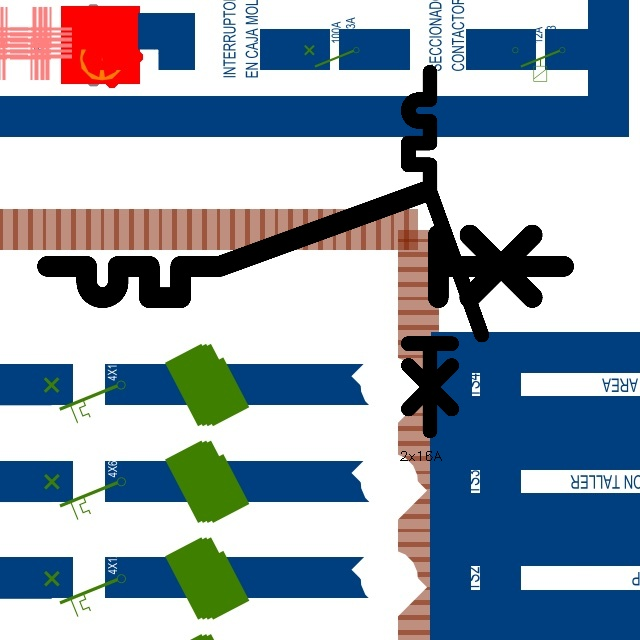interruptor_termomagnetico: (34, 178, 577, 311), (399, 63, 491, 440)
